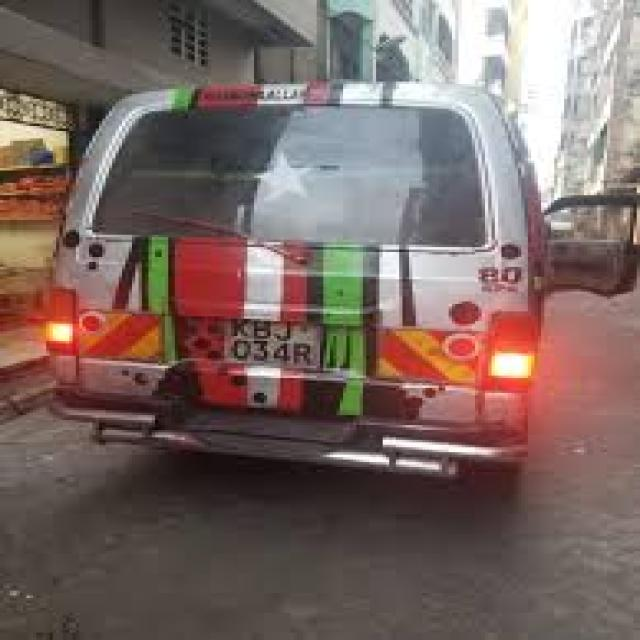matatu: (42, 43, 640, 534)
